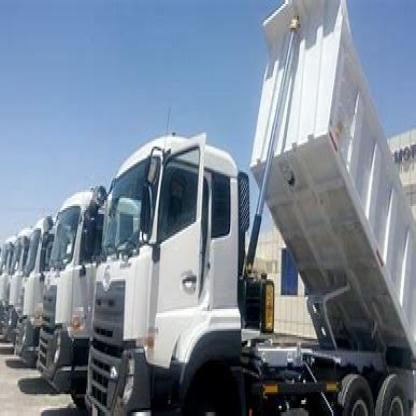dump_truck: (104, 12, 415, 414), (42, 153, 107, 406), (9, 204, 50, 368)
